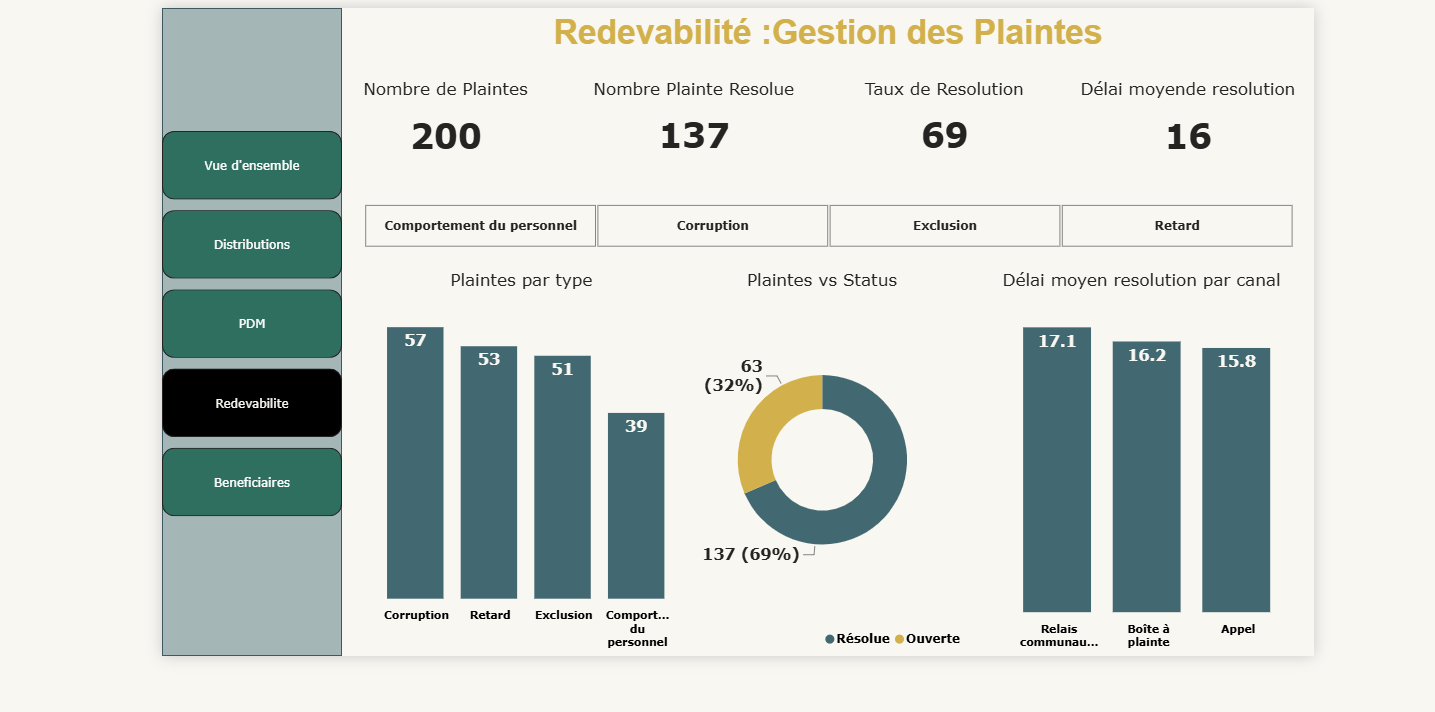

This screenshot's page, from the dashboard's own definition file:
{"tool":"powerbi","page":{"name":"Redevabilite","canvas":[1280,720],"ordinal":3},"visuals":[{"type":"textbox","box":[0,0,1279.7,63.9],"z":0},{"type":"card","title":"Nombre de Plaintes","fields":{"Values":["_Mesures.Nb_Plaintes"]},"box":[0,63.9,202.9,108.6],"z":1000},{"type":"card","title":"Nombre Plainte Resolue","fields":{"Values":["_Mesures.Nb_Plaintes_Resolues"]},"box":[306.8,78.3,292.4,108.6],"z":2000},{"type":"card","title":"Taux de Resolution","fields":{"Values":["_Mesures.Taux_Resolution"]},"box":[679,78.3,204.5,108.6],"z":3000},{"type":"card","title":"Délai  moyende resolution","fields":{"Values":["_Mesures.Delai_Moyen_Resolution"]},"box":[1000.1,78.3,279.6,108.6],"z":4000},{"type":"slicer","fields":{"Values":["fact_plaintes.type_complaint"]},"box":[6.4,212.5,1273.3,59.1],"z":5000},{"type":"clusteredColumnChart","title":"Plaintes par type","fields":{"Category":["fact_plaintes.type_complaint"],"Y":["_Mesures.Nb_Plaintes"]},"box":[8,290.8,409,429.8],"z":6000},{"type":"donutChart","title":"Plaintes vs Status","fields":{"Y":["_Mesures.Nb_Plaintes"],"Category":["fact_plaintes.status"]},"box":[414.7,290.5,394.6,429.8],"z":7000},{"type":"clusteredColumnChart","title":"Délai moyen resolution  par canal","fields":{"Category":["fact_plaintes.canal_signalement"],"Y":["_Mesures.Delai_Moyen_Resolution"]},"box":[810,290,470,430],"z":8000}]}

Visuals, with their boxes on the page's 1280x720 design canvas (x1, y1, x2, y2). These are canvas units, not pixel positions in the 1435x712 screenshot, which may show the page scaled, cropped or inside an application window:
textbox: pyautogui.locateOnScreen(0, 0, 1280, 64)
"Nombre de Plaintes" card: pyautogui.locateOnScreen(0, 64, 203, 172)
"Nombre Plainte Resolue" card: pyautogui.locateOnScreen(307, 78, 599, 187)
"Taux de Resolution" card: pyautogui.locateOnScreen(679, 78, 884, 187)
"Délai  moyende resolution" card: pyautogui.locateOnScreen(1000, 78, 1280, 187)
slicer - fact_plaintes.type_complaint: pyautogui.locateOnScreen(6, 212, 1280, 272)
"Plaintes par type" clusteredColumnChart: pyautogui.locateOnScreen(8, 291, 417, 721)
"Plaintes vs Status" donutChart: pyautogui.locateOnScreen(415, 290, 809, 720)
"Délai moyen resolution  par canal" clusteredColumnChart: pyautogui.locateOnScreen(810, 290, 1280, 720)
